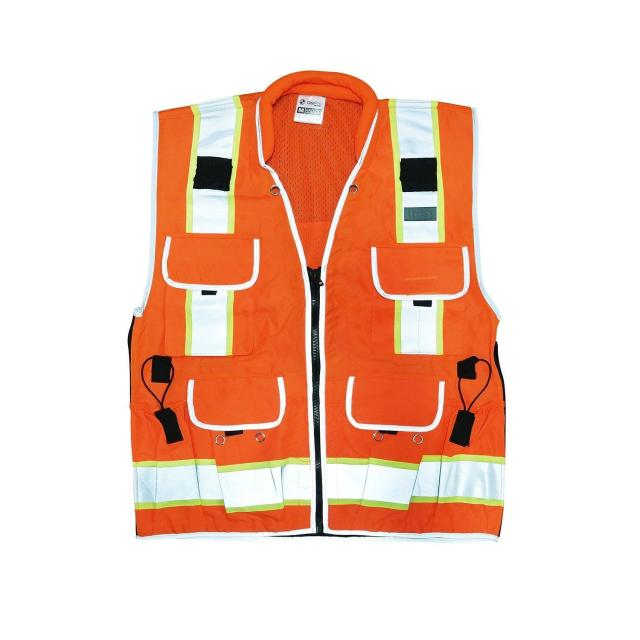Vest: (122, 69, 508, 545)
